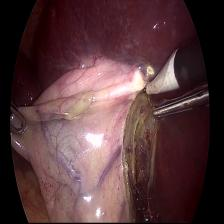Grasper: (146, 83, 208, 132), (11, 89, 35, 146)
Hook: (139, 44, 179, 103)
